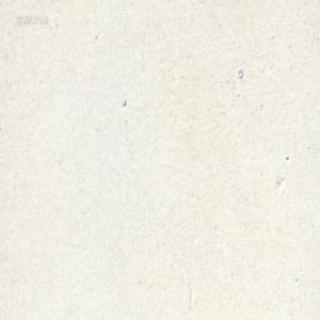Washertrack_idkeyframe: (236, 68, 242, 79)
